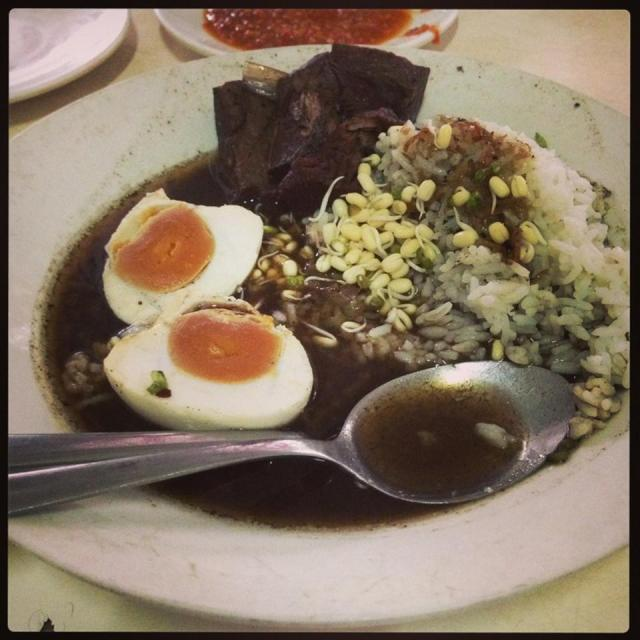Rawon: (37, 83, 598, 517)
